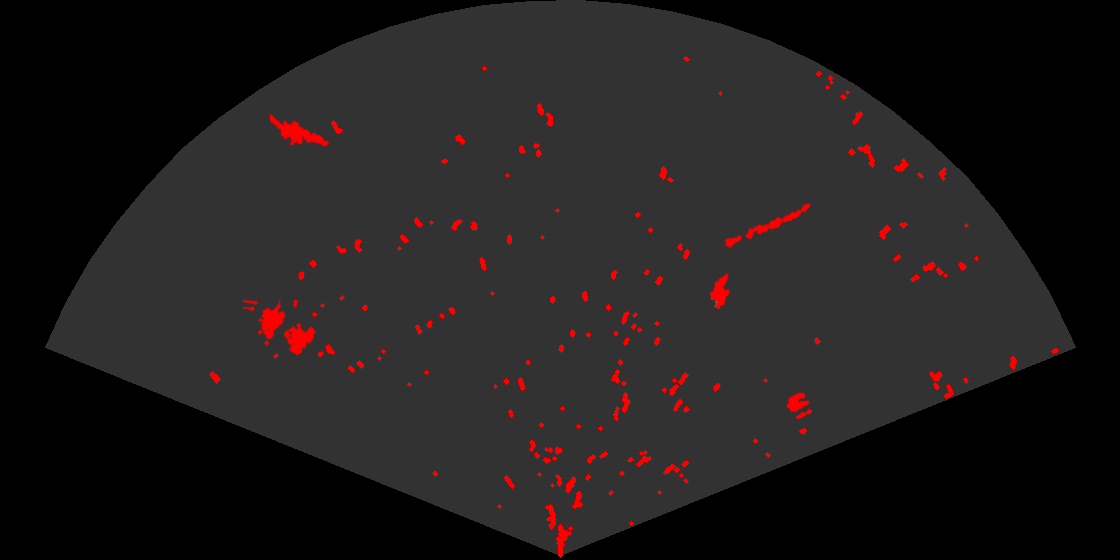AUV: (708, 272, 732, 311)
ball: (785, 391, 814, 421)
cage: (243, 300, 318, 357)
chain: (719, 201, 813, 250)
frogman: (270, 112, 331, 148)
